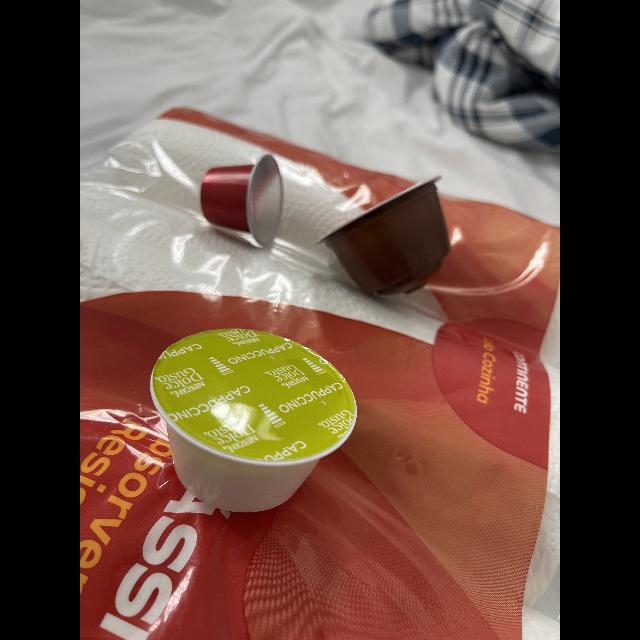intact_capsule: (136, 323, 367, 521), (307, 165, 471, 312), (186, 145, 304, 259)
